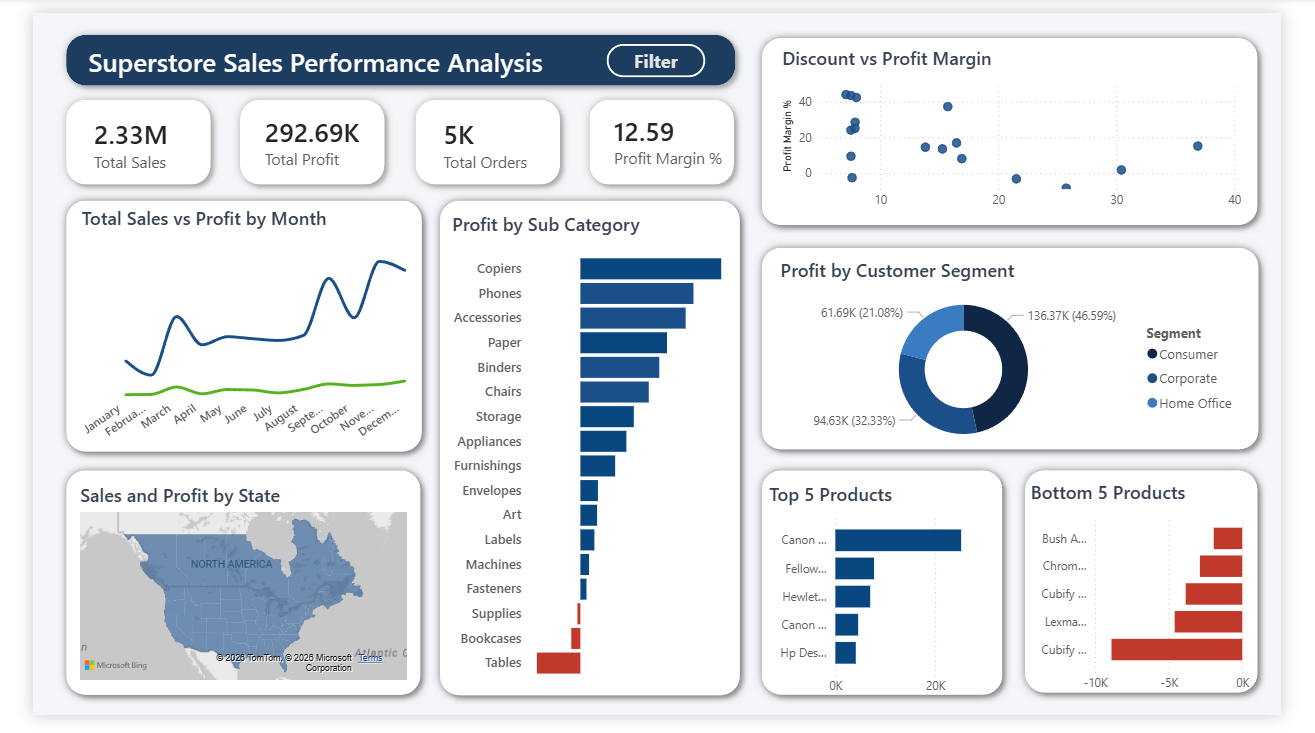

What the dashboard file says about the page in this screenshot:
{"tool":"powerbi","page":{"name":"Page 1","canvas":[1280,720],"ordinal":0},"visuals":[{"type":"shape","box":[24.3,12.9,704.3,70],"z":0,"group":"g10"},{"type":"shape","box":[738.3,17.5,526.7,210],"z":0,"group":"g6"},{"type":"shape","box":[24.3,80.4,166.2,105],"z":0,"group":"g3"},{"type":"shape","box":[203.8,80.4,166.2,105],"z":0,"group":"g4"},{"type":"group","id":"g1","title":"Group 1","box":[383,80.4,166.2,105],"z":0},{"type":"shape","box":[383,80.4,166.2,105],"z":0,"group":"g1"},{"type":"shape","box":[562.2,80.4,166.2,105],"z":0,"group":"g2"},{"type":"shape","box":[407.6,182.9,325.7,525.7],"z":0,"group":"g5"},{"type":"shape","box":[738.3,232.4,527.7,225.1],"z":0,"group":"g7"},{"type":"shape","box":[738.3,460,265,248.3],"z":0,"group":"g8"},{"type":"shape","box":[1008.3,460,256.7,246.2],"z":0,"group":"g9"},{"type":"textbox","box":[50.2,26,505.6,47.1],"z":500,"group":"g10"},{"type":"actionButton","title":"Filter","box":[586.9,31.5,101.2,34.3],"z":1000,"group":"g10"},{"type":"scatterChart","title":"Discount vs Profit Margin","fields":{"X":["samplesuperstore_clean.Average Discount %"],"Category":["samplesuperstore_clean.Sub Category"],"Y":["samplesuperstore_clean.Profit Margin %"]},"box":[762.5,33.4,480.9,176.4],"z":1000,"group":"g6"},{"type":"group","id":"g2","title":"Group 1","box":[562.2,80.4,175,105],"z":1000},{"type":"cardVisual","fields":{"Data":["samplesuperstore_clean.Total Profit"]},"box":[212.2,81.4,156.2,100],"z":1000,"group":"g4"},{"type":"cardVisual","fields":{"Data":["samplesuperstore_clean.Profit Margin %"]},"box":[570.6,85.4,166.2,92.5],"z":1000,"group":"g2"},{"type":"cardVisual","fields":{"Data":["samplesuperstore_clean.Total Sales"]},"box":[35.5,87.9,145,92.5],"z":1000,"group":"g3"},{"type":"cardVisual","fields":{"Data":["samplesuperstore_clean.Total Orders"]},"box":[394.2,87.9,145,92.5],"z":1000,"group":"g1"},{"type":"clusteredBarChart","title":"Profit by Sub Category","fields":{"Y":["samplesuperstore_clean.Total Profit"],"Category":["samplesuperstore_clean.Sub Category"]},"box":[424.6,202.2,296,489.5],"z":1000,"group":"g5"},{"type":"donutChart","title":"Profit by Customer Segment","fields":{"Category":["samplesuperstore_clean.Segment"],"Y":["samplesuperstore_clean.Total Profit"]},"box":[761,251.5,482.4,206],"z":1000,"group":"g7"},{"type":"clusteredBarChart","title":"Bottom 5 Products","fields":{"Category":["samplesuperstore_clean.Product Name"],"Y":["samplesuperstore_clean.Total Profit"]},"box":[1017.5,478.7,234,226.8],"z":1000,"group":"g9"},{"type":"clusteredBarChart","title":"Top 5 Products","fields":{"Category":["samplesuperstore_clean.Product Name"],"Y":["samplesuperstore_clean.Total Profit"]},"box":[750.5,479.6,241.6,228.8],"z":1000,"group":"g8"},{"type":"group","id":"g3","title":"Group 1","box":[24.3,80.4,166.2,105],"z":2000},{"type":"group","id":"g4","title":"Group 1","box":[203.8,80.4,166.2,105],"z":3000},{"type":"shape","box":[24.3,182.9,382.9,275.7],"z":4000,"group":"g12"},{"type":"group","id":"g5","title":"Group 2","box":[407.6,182.9,325.7,525.7],"z":4000},{"type":"group","id":"g6","title":"Group 3","box":[738.3,17.5,526.7,210],"z":5000},{"type":"areaChart","title":"Total Sales vs Profit by Month","fields":{"Category":["samplesuperstore_clean.Order Date.Variation.Date Hierarchy.Month"],"Y":["samplesuperstore_clean.Total Sales","samplesuperstore_clean.Total Profit"]},"box":[43.9,196.3,351.8,250.6],"z":5000,"group":"g12"},{"type":"group","id":"g7","title":"Group 4","box":[738.3,232.4,528.3,225],"z":6000},{"type":"shape","box":[24.3,460,381.4,248.6],"z":7000,"group":"g11"},{"type":"group","id":"g8","title":"Group 5","box":[738.3,460,265,248.3],"z":7000},{"type":"group","id":"g9","title":"Group 5","box":[1008.3,460,256.7,245],"z":8000},{"type":"filledMap","title":"Sales and Profit by State","fields":{"Category":["samplesuperstore_clean.State Province"]},"box":[42.3,481.4,345,207.1],"z":8000,"group":"g11"},{"type":"group","id":"g10","title":"Group 1","box":[24.3,12.9,704.3,70],"z":10000},{"type":"group","id":"g11","title":"Group 6","box":[24.3,460,381.4,248.6],"z":11000},{"type":"group","id":"g12","title":"Group 7","box":[24.3,182.9,382.9,275.7],"z":12000}]}

Visuals, with their boxes in screenshot pixels (x1, y1, x2, y2), scaled from the page's 1280x720 canvas onto the 1315x733 screenshot:
shape: locate(25, 13, 749, 84)
shape: locate(758, 18, 1300, 232)
shape: locate(25, 82, 196, 189)
shape: locate(209, 82, 380, 189)
"Group 1" group: locate(393, 82, 564, 189)
shape: locate(393, 82, 564, 189)
shape: locate(578, 82, 748, 189)
shape: locate(419, 186, 753, 721)
shape: locate(758, 237, 1301, 466)
shape: locate(758, 468, 1031, 721)
shape: locate(1036, 468, 1300, 719)
textbox: locate(52, 26, 571, 74)
"Filter" actionButton: locate(603, 32, 707, 67)
"Discount vs Profit Margin" scatterChart: locate(783, 34, 1277, 214)
"Group 1" group: locate(578, 82, 757, 189)
cardVisual - samplesuperstore_clean.Total Profit: locate(218, 83, 378, 185)
cardVisual - samplesuperstore_clean.Profit Margin %: locate(586, 87, 757, 181)
cardVisual - samplesuperstore_clean.Total Sales: locate(36, 89, 185, 184)
cardVisual - samplesuperstore_clean.Total Orders: locate(405, 89, 554, 184)
"Profit by Sub Category" clusteredBarChart: locate(436, 206, 740, 704)
"Profit by Customer Segment" donutChart: locate(782, 256, 1277, 466)
"Bottom 5 Products" clusteredBarChart: locate(1045, 487, 1286, 718)
"Top 5 Products" clusteredBarChart: locate(771, 488, 1019, 721)
"Group 1" group: locate(25, 82, 196, 189)
"Group 1" group: locate(209, 82, 380, 189)
shape: locate(25, 186, 418, 467)
"Group 2" group: locate(419, 186, 753, 721)
"Group 3" group: locate(758, 18, 1300, 232)
"Total Sales vs Profit by Month" areaChart: locate(45, 200, 407, 455)
"Group 4" group: locate(758, 237, 1301, 466)
shape: locate(25, 468, 417, 721)
"Group 5" group: locate(758, 468, 1031, 721)
"Group 5" group: locate(1036, 468, 1300, 718)
"Sales and Profit by State" filledMap: locate(43, 490, 398, 701)
"Group 1" group: locate(25, 13, 749, 84)
"Group 6" group: locate(25, 468, 417, 721)
"Group 7" group: locate(25, 186, 418, 467)
